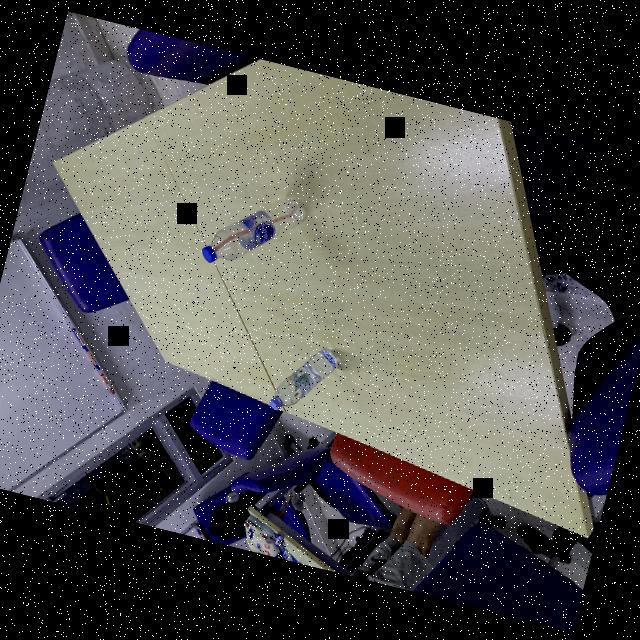plastic_bottle: (196, 178, 308, 282), (266, 336, 342, 422)
plastic_bottle_cap: (198, 242, 220, 264), (267, 394, 284, 410)
straw: (212, 196, 292, 266)
